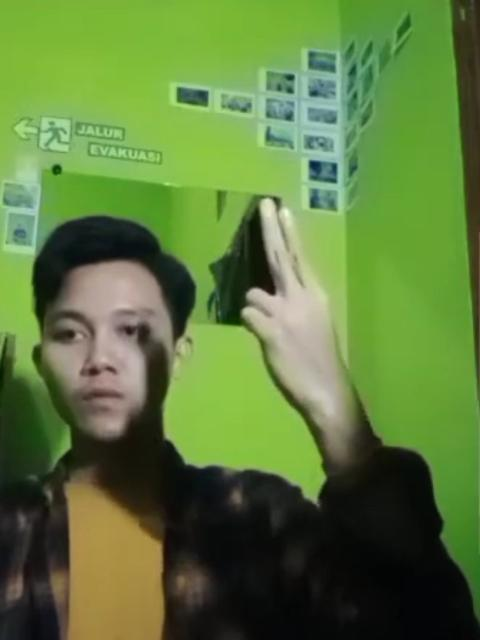U: (234, 187, 362, 409)
